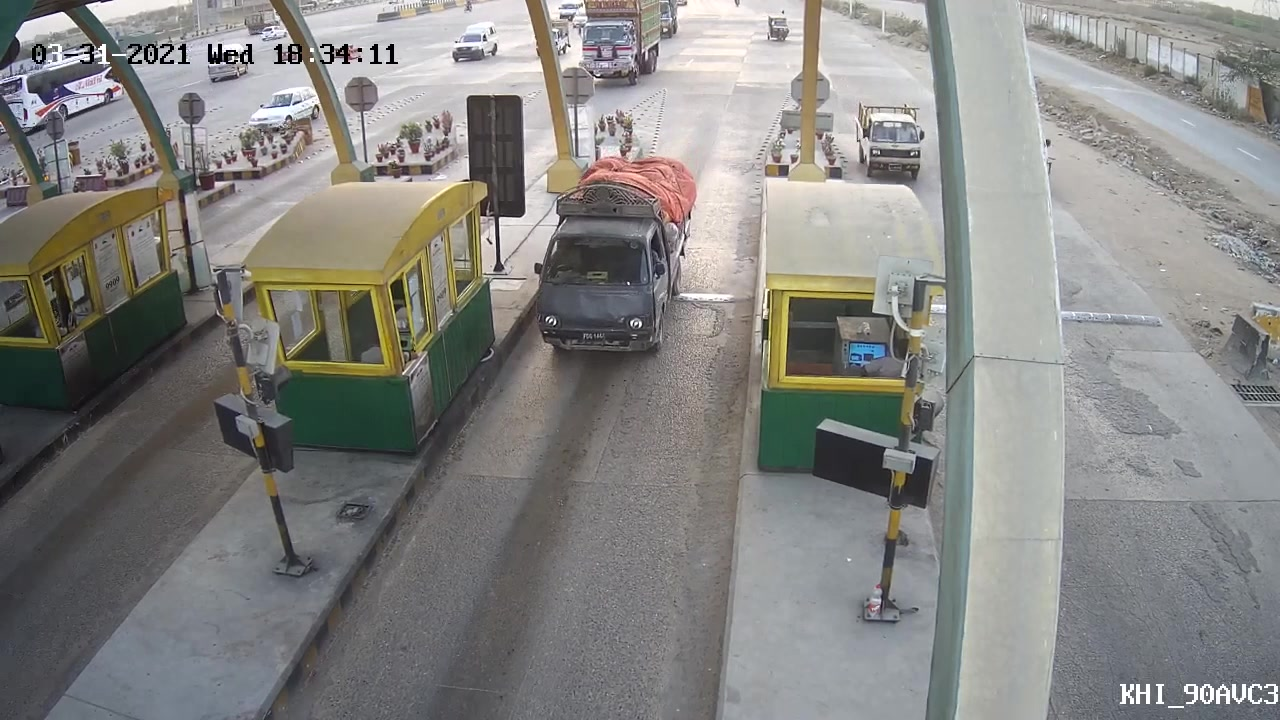F2: (528, 160, 699, 367)
